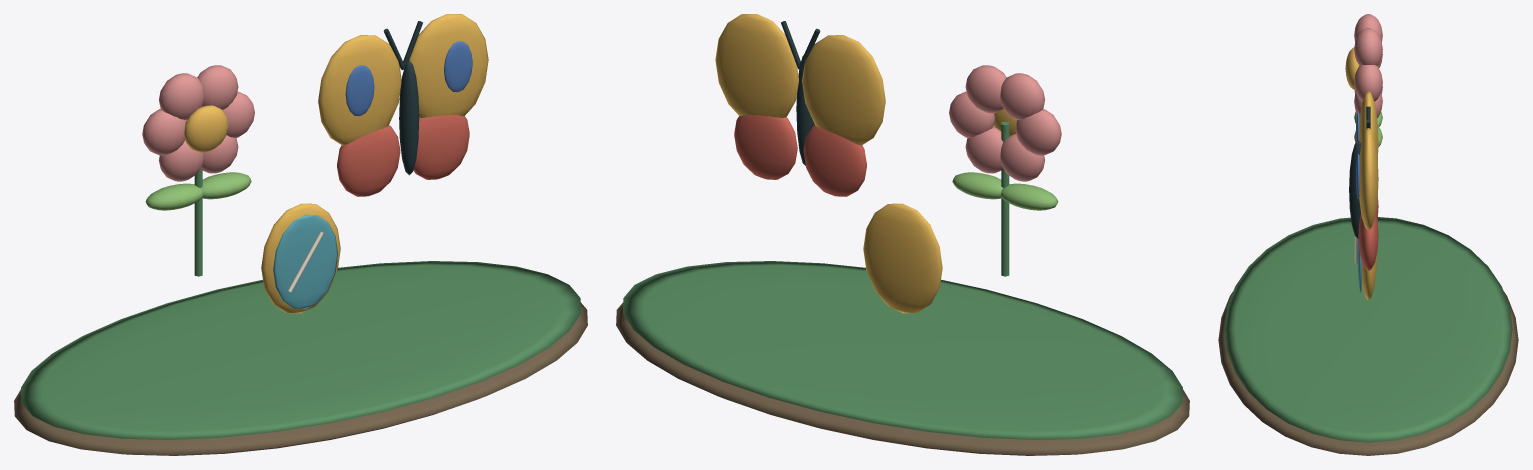
Rendered from complete-second-beautiful-lovely.glb.
The picture shows the model from 3 angles, left to right: view 1: azimuth 30°, elevation 25°; view 2: azimuth 150°, elevation 25°; view 3: azimuth 270°, elevation 25°; orthographic projection. The views are drawn at different scales.
Visible parts, largest first — view 1: complete-second-beautiful-lovely_surface_01, complete-second-beautiful-lovely_surface_04, complete-second-beautiful-lovely_surface_00, complete-second-beautiful-lovely_surface_03, complete-second-beautiful-lovely_surface_05, complete-second-beautiful-lovely_surface_08, complete-second-beautiful-lovely_surface_07, complete-second-beautiful-lovely_surface_06, complete-second-beautiful-lovely_surface_02; view 2: complete-second-beautiful-lovely_surface_01, complete-second-beautiful-lovely_surface_04, complete-second-beautiful-lovely_surface_00, complete-second-beautiful-lovely_surface_03, complete-second-beautiful-lovely_surface_05, complete-second-beautiful-lovely_surface_02, complete-second-beautiful-lovely_surface_07; view 3: complete-second-beautiful-lovely_surface_01, complete-second-beautiful-lovely_surface_00, complete-second-beautiful-lovely_surface_04, complete-second-beautiful-lovely_surface_03, complete-second-beautiful-lovely_surface_05, complete-second-beautiful-lovely_surface_07.
Boxes of the visible parts, x1,y1,x2,y2 form: complete-second-beautiful-lovely_surface_01: (21, 168, 580, 439); complete-second-beautiful-lovely_surface_04: (184, 14, 488, 313); complete-second-beautiful-lovely_surface_00: (14, 302, 587, 455); complete-second-beautiful-lovely_surface_03: (142, 65, 254, 181); complete-second-beautiful-lovely_surface_05: (337, 115, 469, 196); complete-second-beautiful-lovely_surface_08: (273, 214, 337, 309); complete-second-beautiful-lovely_surface_07: (383, 21, 422, 175); complete-second-beautiful-lovely_surface_06: (345, 41, 472, 116); complete-second-beautiful-lovely_surface_02: (145, 172, 251, 210); complete-second-beautiful-lovely_surface_01: (623, 121, 1182, 439); complete-second-beautiful-lovely_surface_04: (715, 14, 1016, 313); complete-second-beautiful-lovely_surface_00: (616, 302, 1189, 455); complete-second-beautiful-lovely_surface_03: (949, 65, 1061, 181); complete-second-beautiful-lovely_surface_05: (734, 115, 866, 196); complete-second-beautiful-lovely_surface_02: (952, 172, 1058, 210); complete-second-beautiful-lovely_surface_07: (781, 21, 820, 165); complete-second-beautiful-lovely_surface_01: (1224, 217, 1512, 442); complete-second-beautiful-lovely_surface_00: (1218, 292, 1518, 455); complete-second-beautiful-lovely_surface_04: (1345, 47, 1378, 299); complete-second-beautiful-lovely_surface_03: (1354, 14, 1382, 118); complete-second-beautiful-lovely_surface_05: (1358, 197, 1378, 270); complete-second-beautiful-lovely_surface_07: (1349, 106, 1370, 238).
Size of the model in its own units: 4.56 by 2.65 by 2.5.
